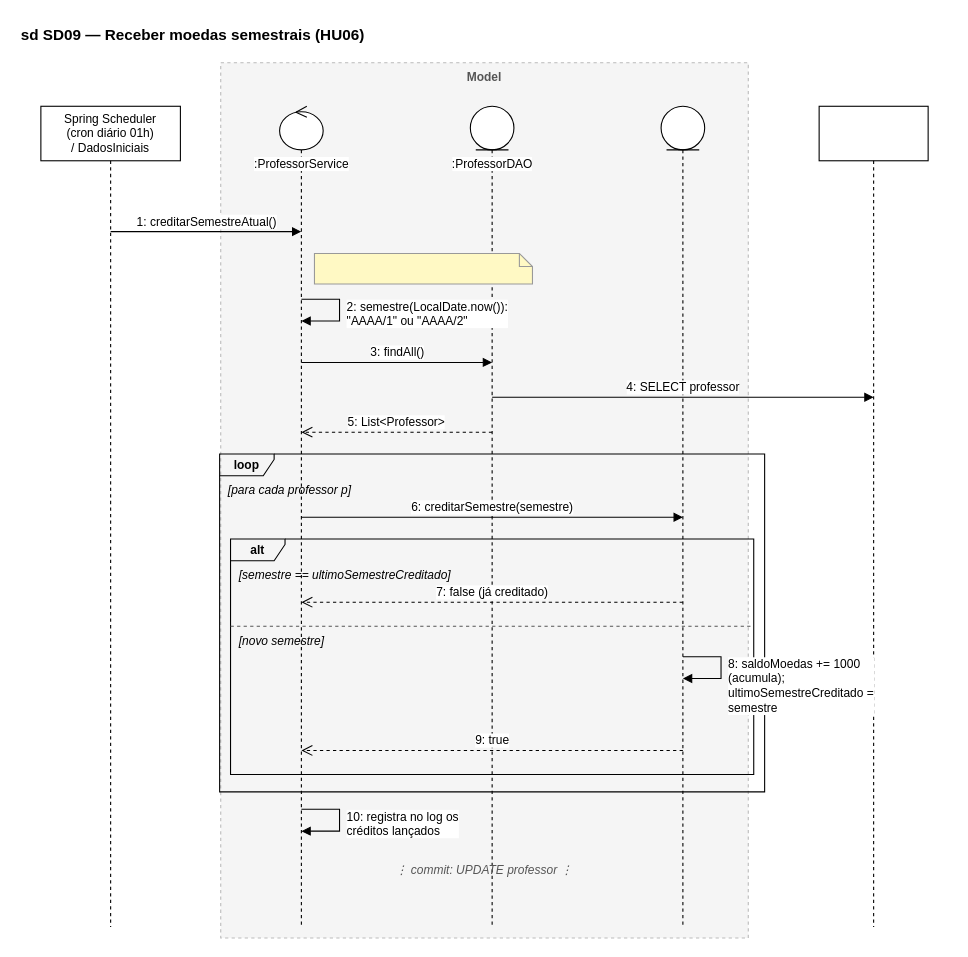
Some shapes in this 968 by 957 pixel diagram are drawn without their labels. Each missing label, with the box of its shape:
@Transactional: (313, 252, 532, 284)
p:Professor: (660, 105, 705, 927)
«database» H2: (818, 105, 928, 927)
